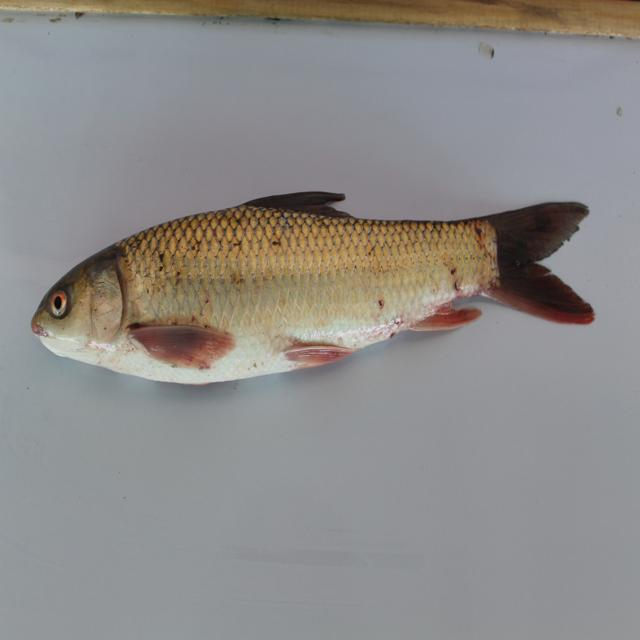Mori: (21, 184, 626, 397)
